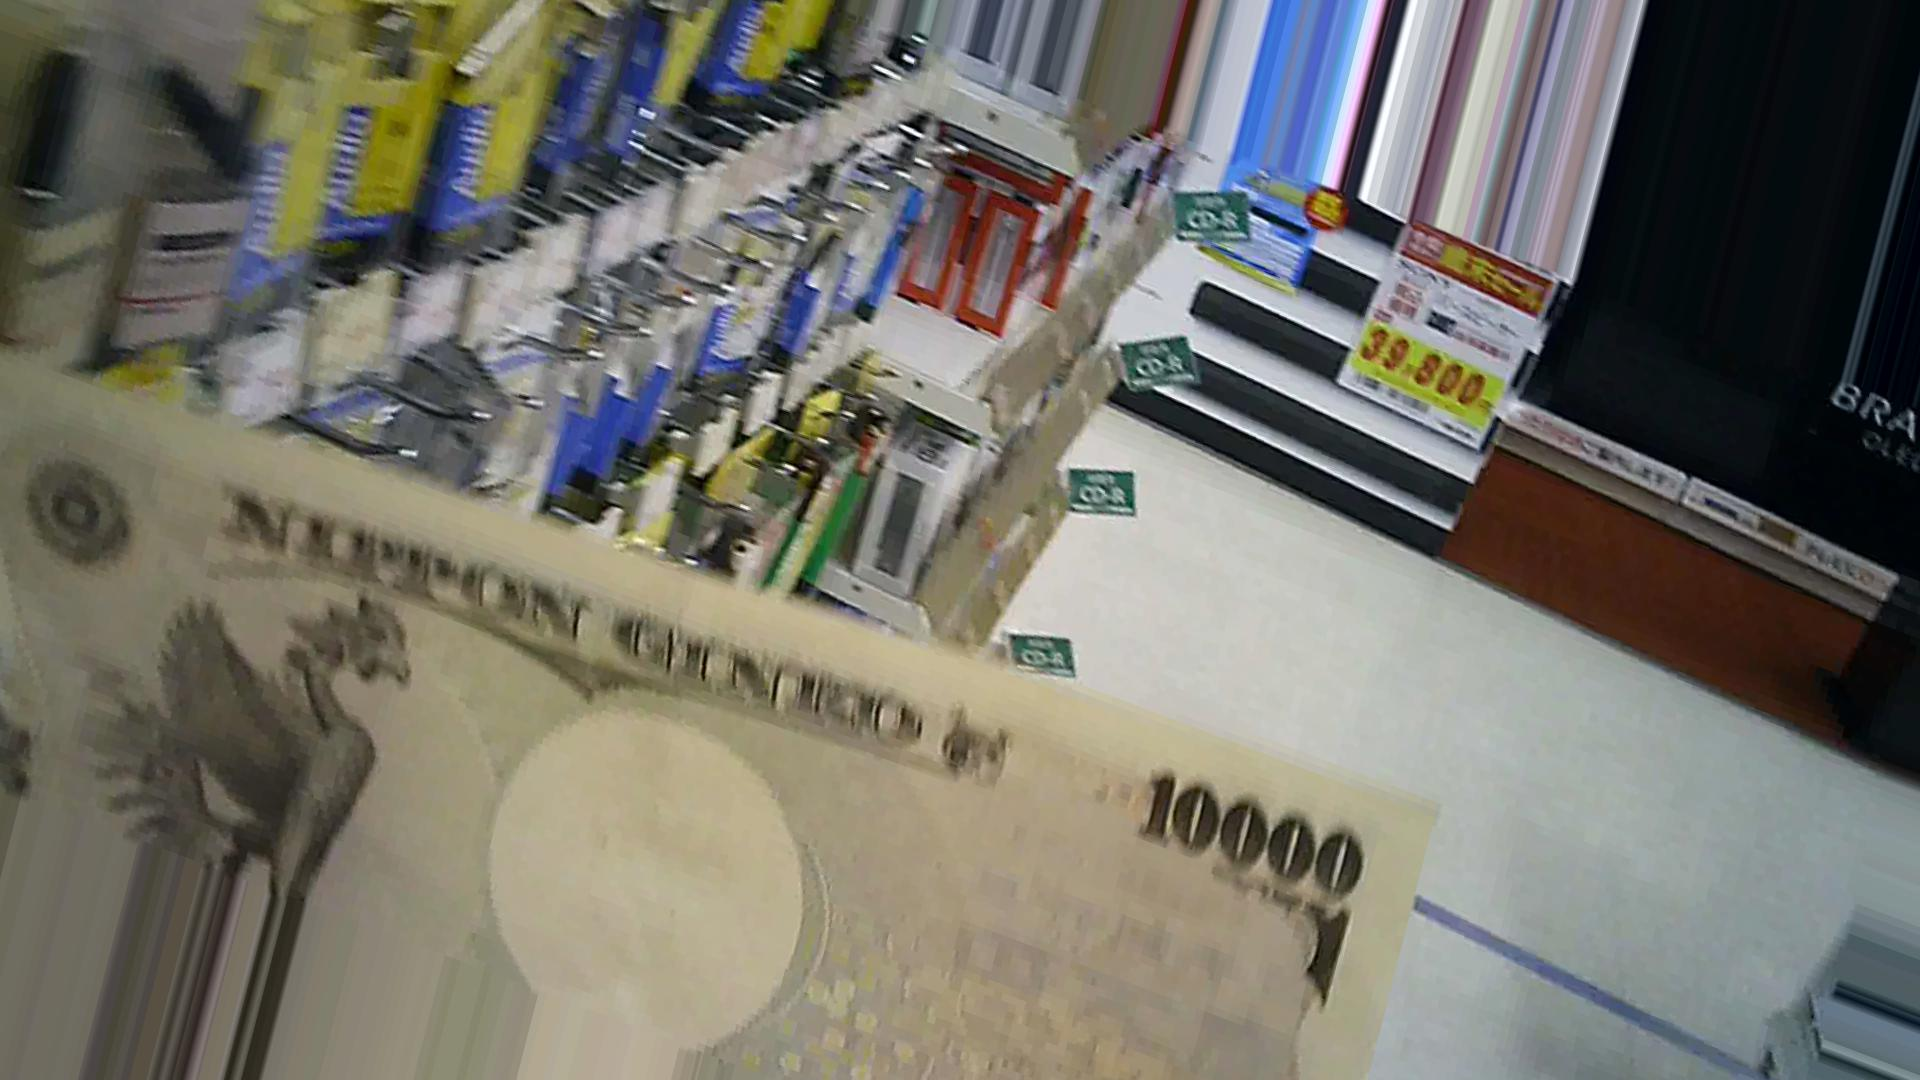10,000 Yen: (82, 367, 1470, 1065)
